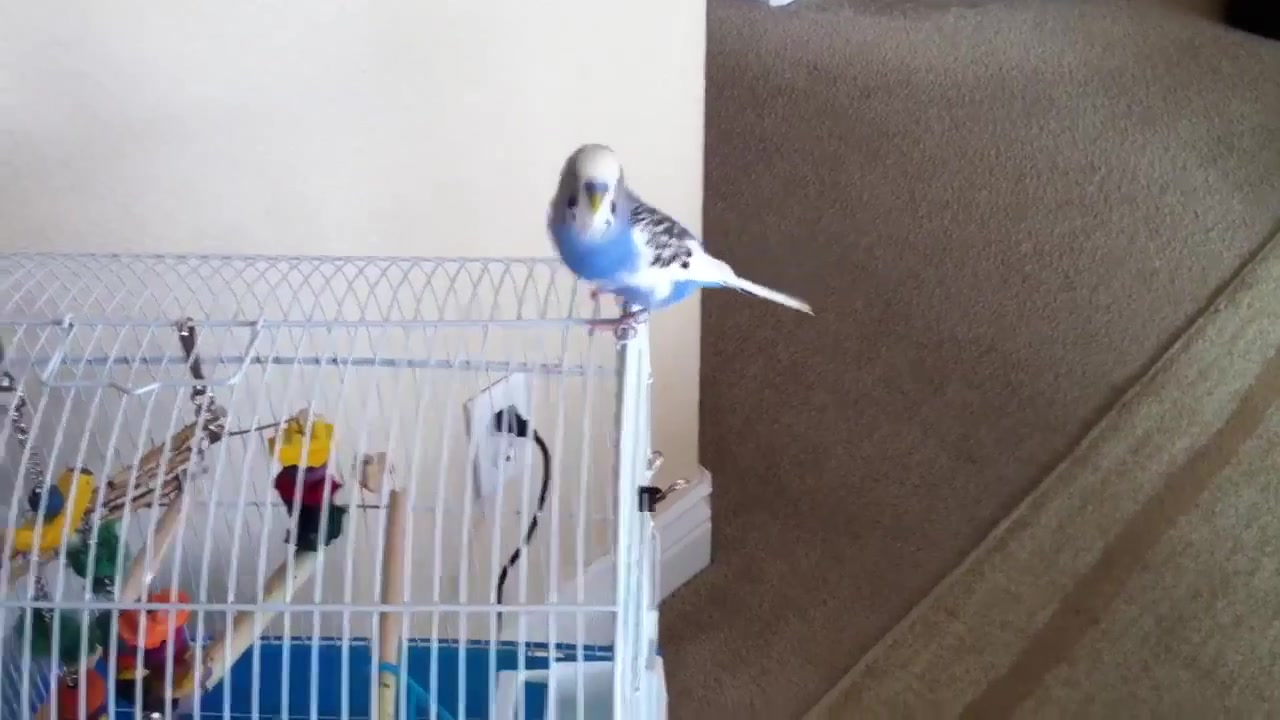bird: (545, 144, 817, 349)
